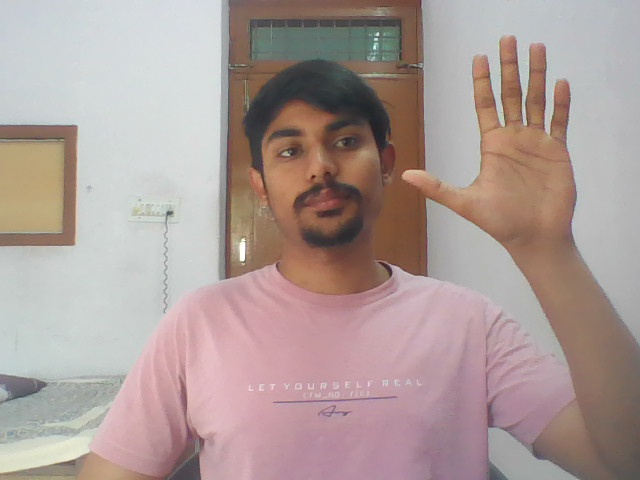Hello: (400, 32, 590, 238)
